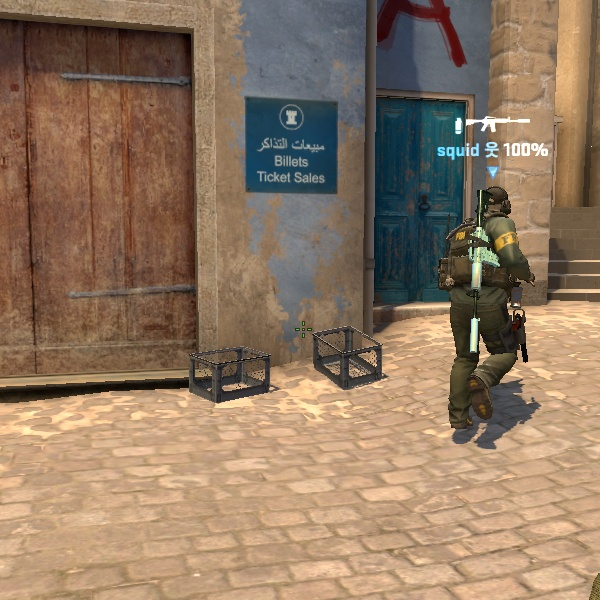ct_body: (426, 182, 549, 419)
ct_head: (469, 179, 519, 235)
